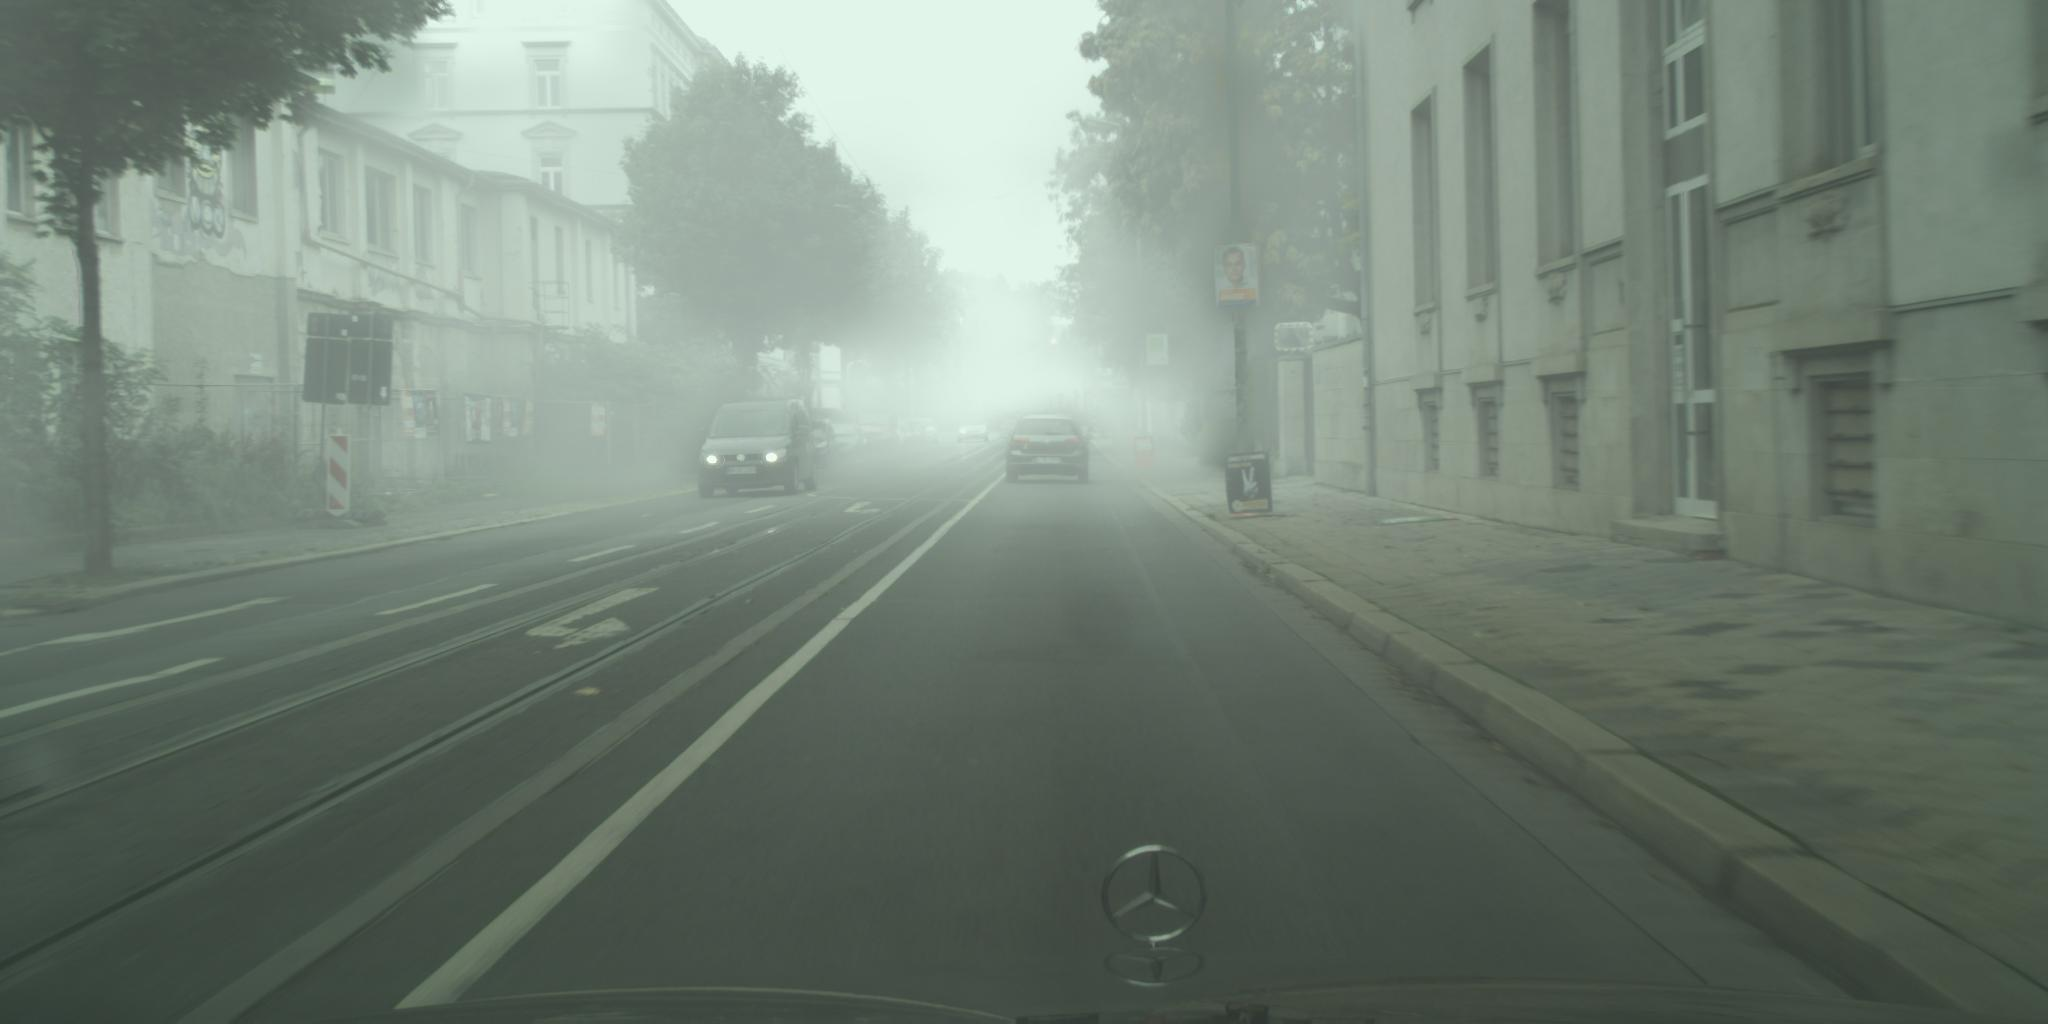car: (697, 394, 819, 500), (1000, 415, 1096, 486), (859, 411, 900, 456), (828, 422, 869, 464), (808, 419, 840, 470), (956, 417, 991, 444), (896, 417, 917, 451), (917, 419, 939, 445), (889, 418, 906, 452), (906, 421, 927, 447)
